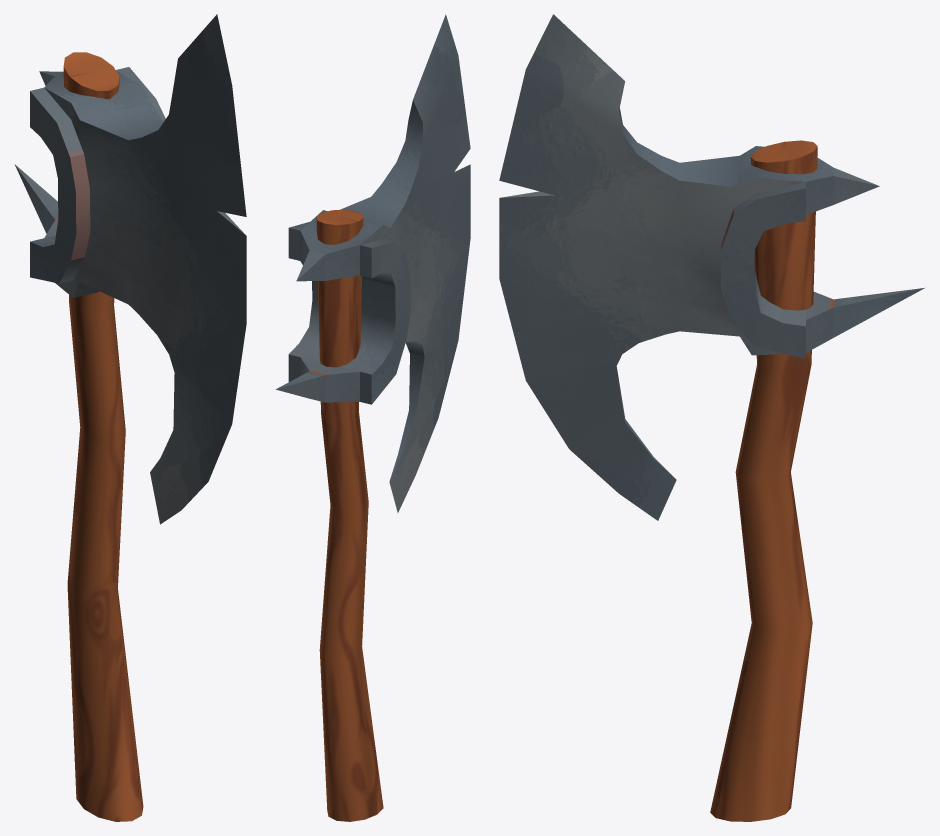
File: SM_Axe 1.fbx
The picture shows the model from 3 angles, left to right: view 1: azimuth 30°, elevation 25°; view 2: azimuth 150°, elevation 25°; view 3: azimuth 270°, elevation 25°; orthographic projection. The views are drawn at different scales.
Visible parts, largest first — view 1: SM_Axe; view 2: SM_Axe; view 3: SM_Axe.
Part boxes in pixels (x1=…): SM_Axe: x1=14, y1=14, x2=246, y2=821; SM_Axe: x1=275, y1=14, x2=470, y2=821; SM_Axe: x1=499, y1=14, x2=925, y2=821.
Bounding box in the file's own units: 13.68 × 115 × 55.44.
